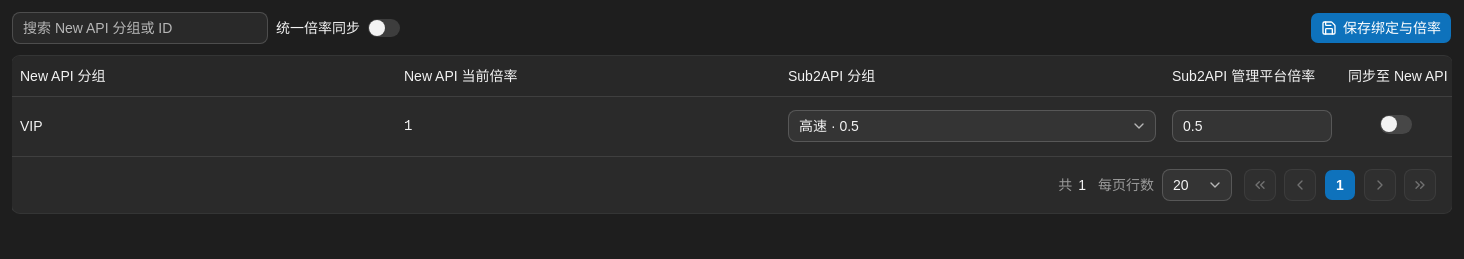
Test: New API 分组绑定倍率 › 倍率正常时没有空白提示行，校验失败后显示提示并在修正后收起
The image size is (1464, 259).
Clear the field named "VIP 的 Sub2API 管理平台倍率". click: {"x": 1252, "y": 126}
box: [1172, 110, 1332, 142]
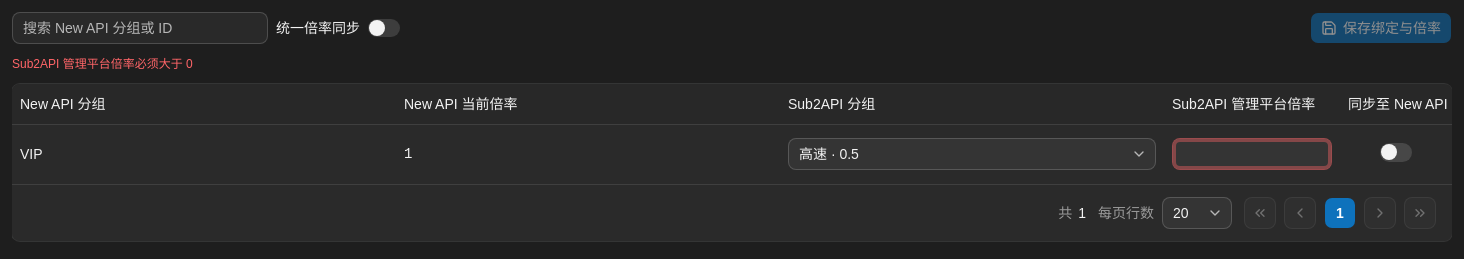
Type "0" into the field named "VIP 的 Sub2API 管理平台倍率". click: {"x": 1252, "y": 154}
box: [1172, 138, 1332, 170]
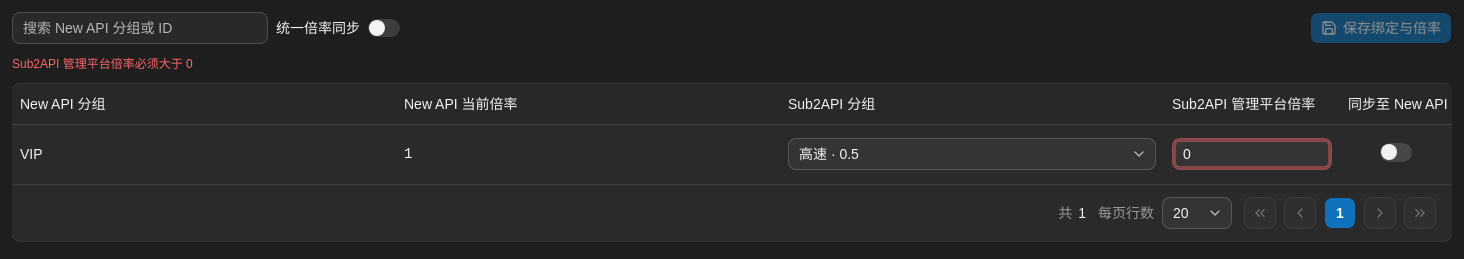
expect the message shows "倍率必须大于 0": met, box [12, 57, 193, 71]
Replace the text in the field named "VIP 的 Sub2API 管理平台倍率" with "1". click: {"x": 1252, "y": 154}
box: [1172, 138, 1332, 170]
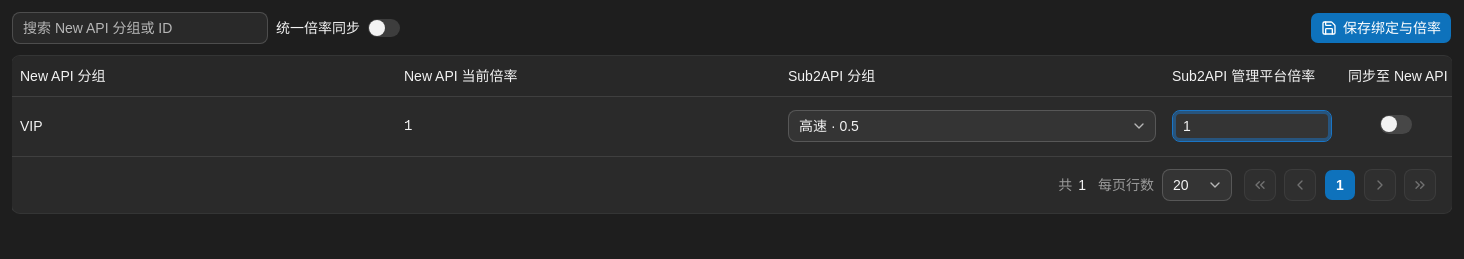
expect the button "保存绑定与倍率" is enabled: met, box [1310, 12, 1452, 44]
